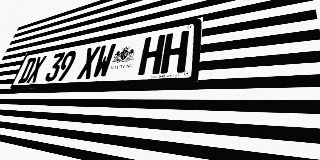3: (44, 52, 66, 82)
9: (55, 50, 78, 81)
D: (17, 57, 37, 84)
H: (160, 30, 189, 74), (137, 34, 166, 75)
W: (91, 43, 117, 79)
X: (76, 46, 101, 80), (26, 55, 47, 83)
